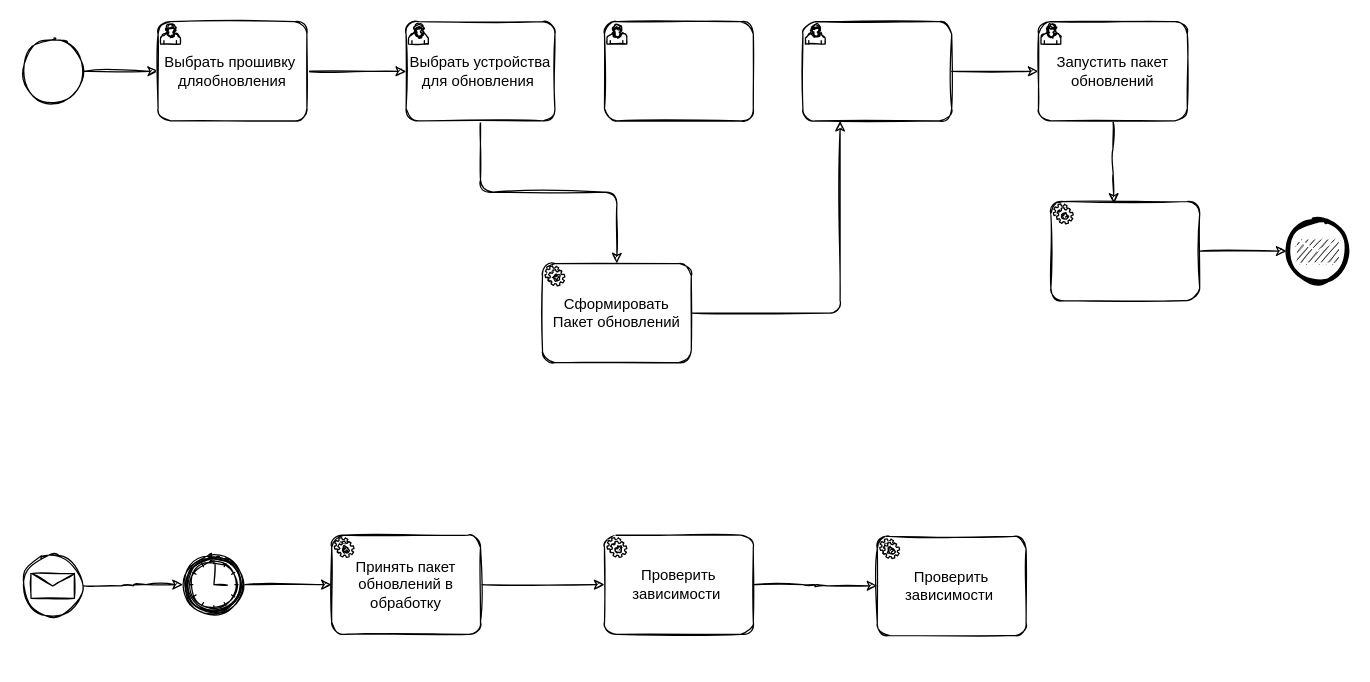
Some shapes in this 1370 by 682 pixel diagram are drawn without their labels. Here are the shapes that lost their labels. From the top down, the centre of each, then its label:
At [678,70]: "Выбрать режим обновления".
At [877,70]: "Просмотреть пакет обновлений".
At [1125,250]: "Отправить пакет на исполнение".
At [213,584]: "Дождаться планового времени".
